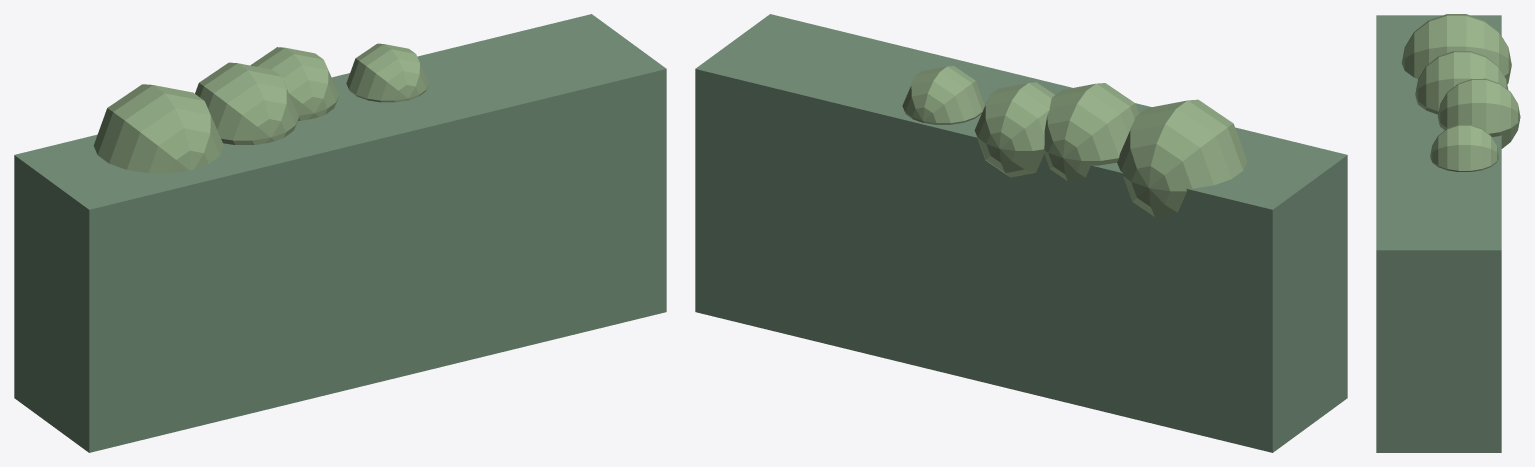
Rendered from mdl_vegetation_hedge_001.glb.
3 renders of one model, left to right at view 1: azimuth 30°, elevation 25°; view 2: azimuth 150°, elevation 25°; view 3: azimuth 270°, elevation 25°, orthographic. The views are drawn at different scales.
Visible parts, largest first — view 1: m_manigua, m_manigua_claro; view 2: m_manigua, m_manigua_claro; view 3: m_manigua, m_manigua_claro.
Part boxes in pixels (x1,y1,x2,y2): m_manigua: [14, 14, 666, 452]; m_manigua_claro: [93, 43, 428, 173]; m_manigua: [695, 14, 1347, 452]; m_manigua_claro: [902, 66, 1246, 216]; m_manigua: [1376, 15, 1501, 452]; m_manigua_claro: [1401, 14, 1520, 171].
Bounding box in the file's own units: 2 × 0.9922 × 0.5182.
